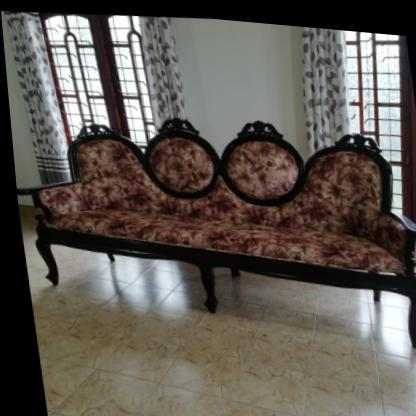Curtains: (3, 11, 69, 185), (301, 21, 347, 148), (138, 13, 185, 125)
Sofa: (6, 90, 416, 361)
